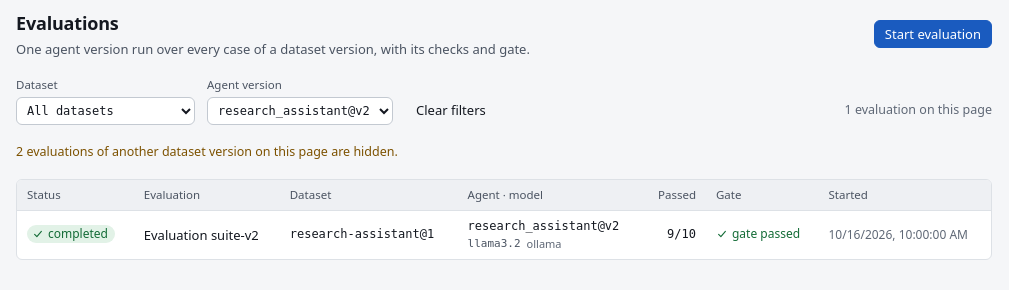
Test: EvaluationsView › filters through the URL and says when nothing matches
The image size is (1009, 290).
Select "task-planner@1" in the dropdown labelled "Dataset" at (106, 111), box top-left (16, 97), bottom-right (195, 125)
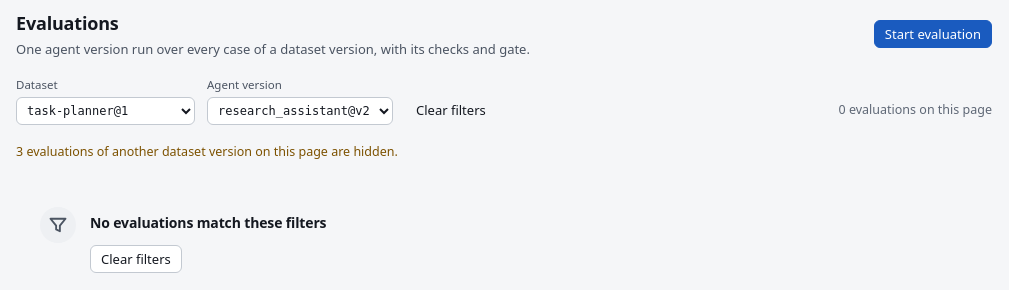
Expected: the text "No evaluations match these filters" is shown, top-left (90, 213), bottom-right (326, 233)
